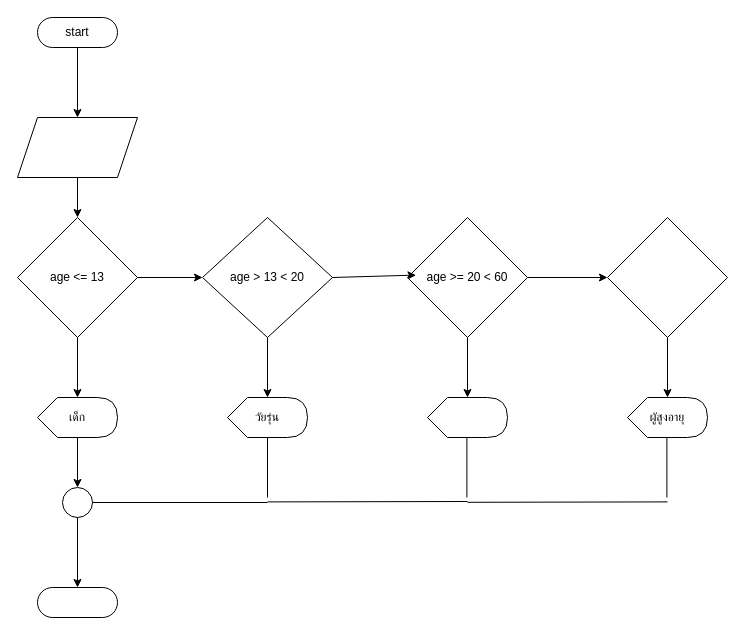
Image size: 745x635. Some labels were removed from this diagram. Each missing label, with the centre of its shape:
"age" belongs at [77,147].
"age >= 60" belongs at [667,277].
"stop" belongs at [77,602].
"ผู้ใหญ่" belongs at [467,417].
